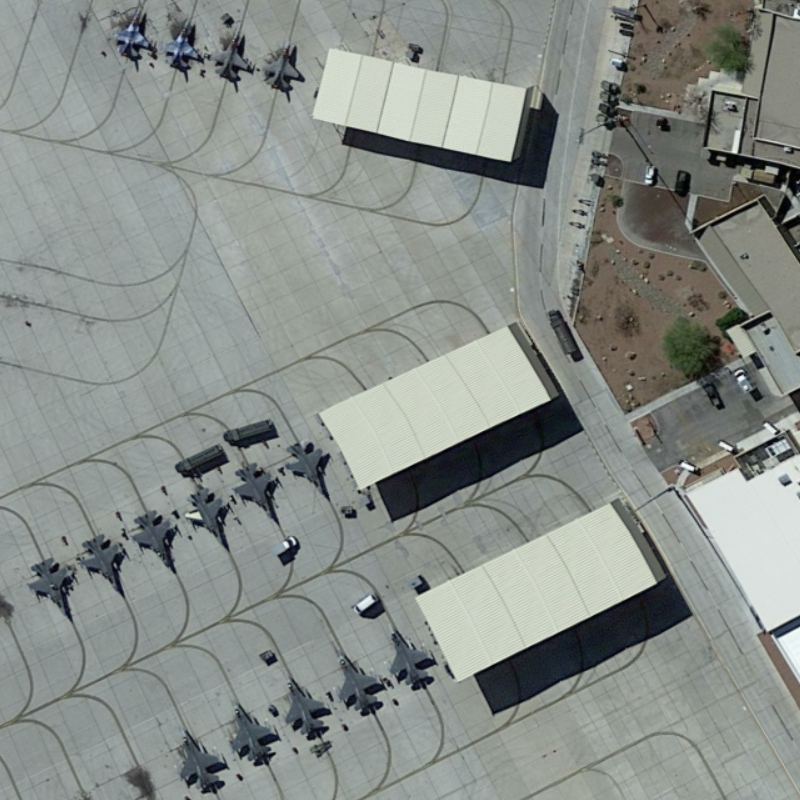A5: (281, 436, 334, 504), (225, 695, 276, 765), (175, 722, 224, 793), (334, 644, 383, 714), (386, 618, 434, 689), (279, 671, 328, 739), (24, 556, 73, 622), (77, 531, 125, 597), (202, 23, 253, 85), (128, 506, 176, 570), (181, 486, 228, 550), (229, 460, 276, 523), (260, 37, 304, 95), (110, 6, 153, 61), (161, 17, 200, 72)
